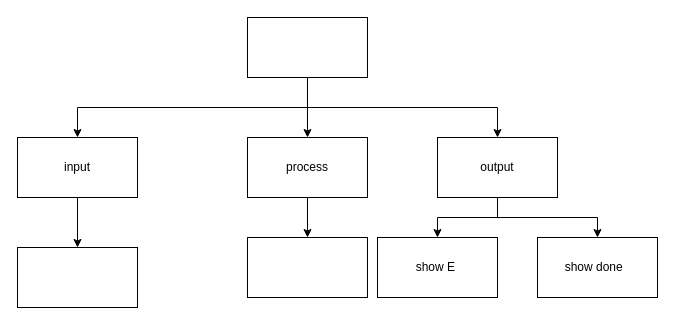
This 675x325 diagram has some shape labels left out. Each missing label, with the centre of its shape:
"E = (mass_amount * speed_of_light)^2" goes at (x=307, y=267).
"energy" goes at (x=307, y=47).
"get mass_amount" goes at (x=77, y=277).
